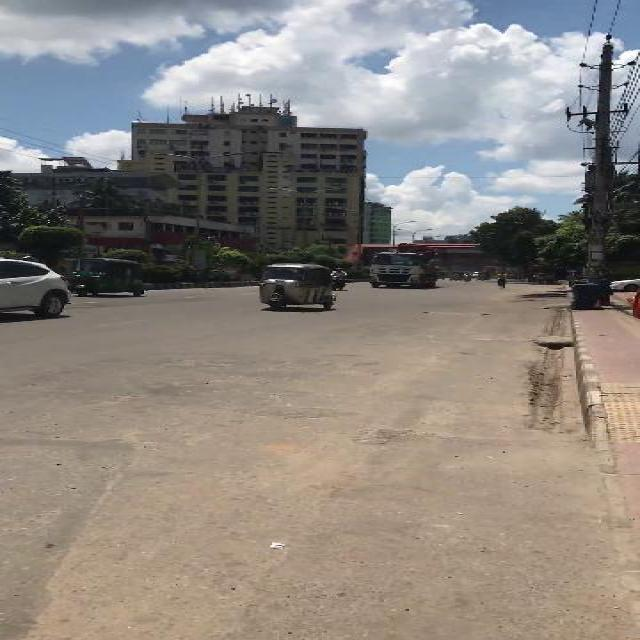bicycle: (493, 271, 506, 289)
car: (0, 255, 68, 318)
motorbike: (329, 265, 347, 291)
three wheelers -CNG-: (255, 262, 335, 312), (68, 256, 146, 296), (476, 272, 488, 280)
truck: (365, 242, 442, 288)
